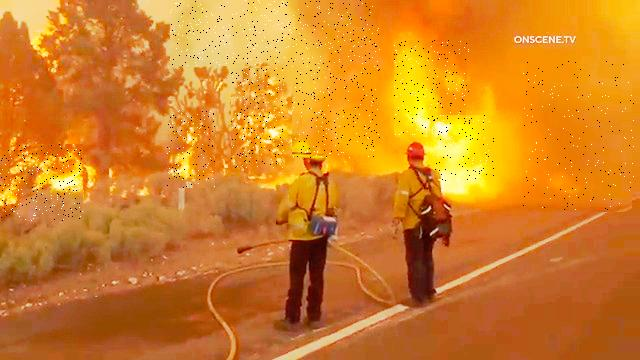fire: (395, 40, 470, 137), (0, 144, 83, 221), (232, 69, 285, 169), (435, 116, 495, 182), (167, 110, 215, 188)
smoke: (523, 60, 635, 212), (170, 0, 379, 66), (292, 27, 380, 158)
